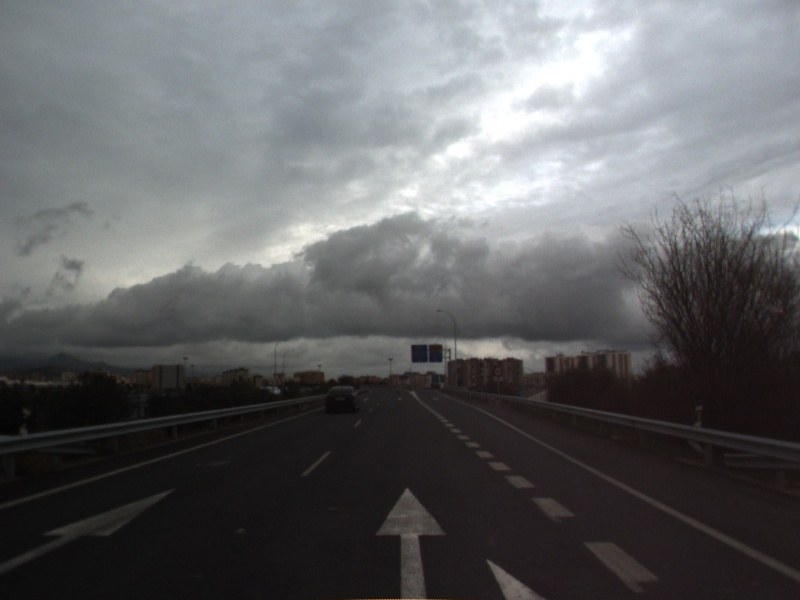STRAIGHT: (1, 482, 182, 574), (370, 483, 450, 600)
